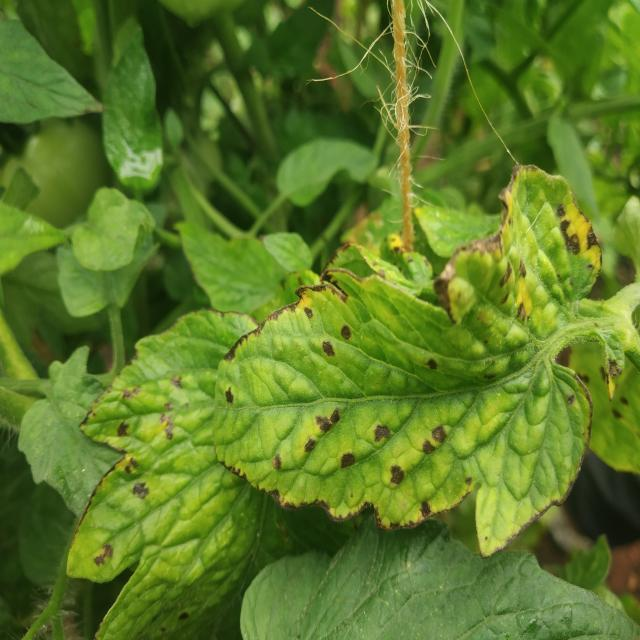Tomato mosaic virus leaf: (212, 158, 628, 562)
